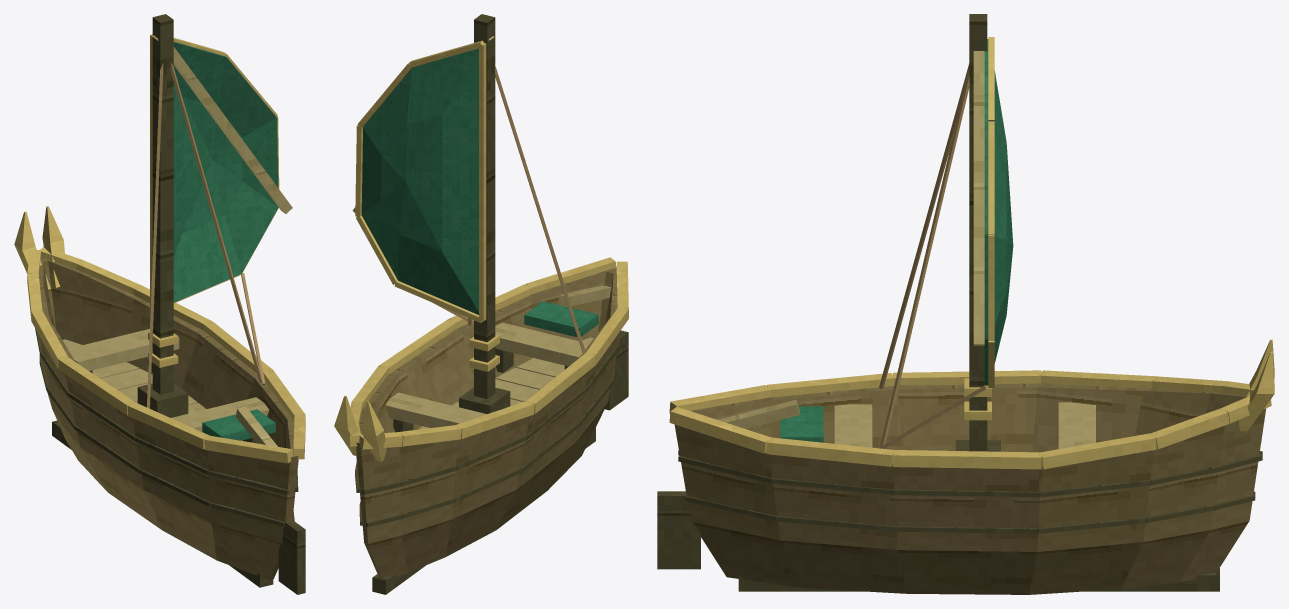
The model's file is elf_embark_boat_v1.glb.
3 renders of one model, left to right at view 1: azimuth 30°, elevation 25°; view 2: azimuth 150°, elevation 25°; view 3: azimuth 270°, elevation 25°, orthographic. The views are drawn at different scales.
Visible parts, largest first — view 1: Hull, Sail, Rig, Deck; view 2: Hull, Sail, Rig, Deck; view 3: Hull, Rig, Sail, Deck.
Boxes of the visible parts, <box> form: Hull: <box>14,206,305,587</box>; Sail: <box>150,34,279,307</box>; Rig: <box>137,14,305,594</box>; Deck: <box>62,329,275,443</box>; Hull: <box>334,257,628,594</box>; Sail: <box>355,40,486,322</box>; Rig: <box>352,14,628,414</box>; Deck: <box>385,301,598,432</box>; Hull: <box>669,339,1274,594</box>; Rig: <box>657,14,1000,569</box>; Sail: <box>984,37,1013,388</box>; Deck: <box>780,402,1095,448</box>.
Bounding box in the file's own units: 1.39 × 3.17 × 3.12.
1 material, 1 textured.
